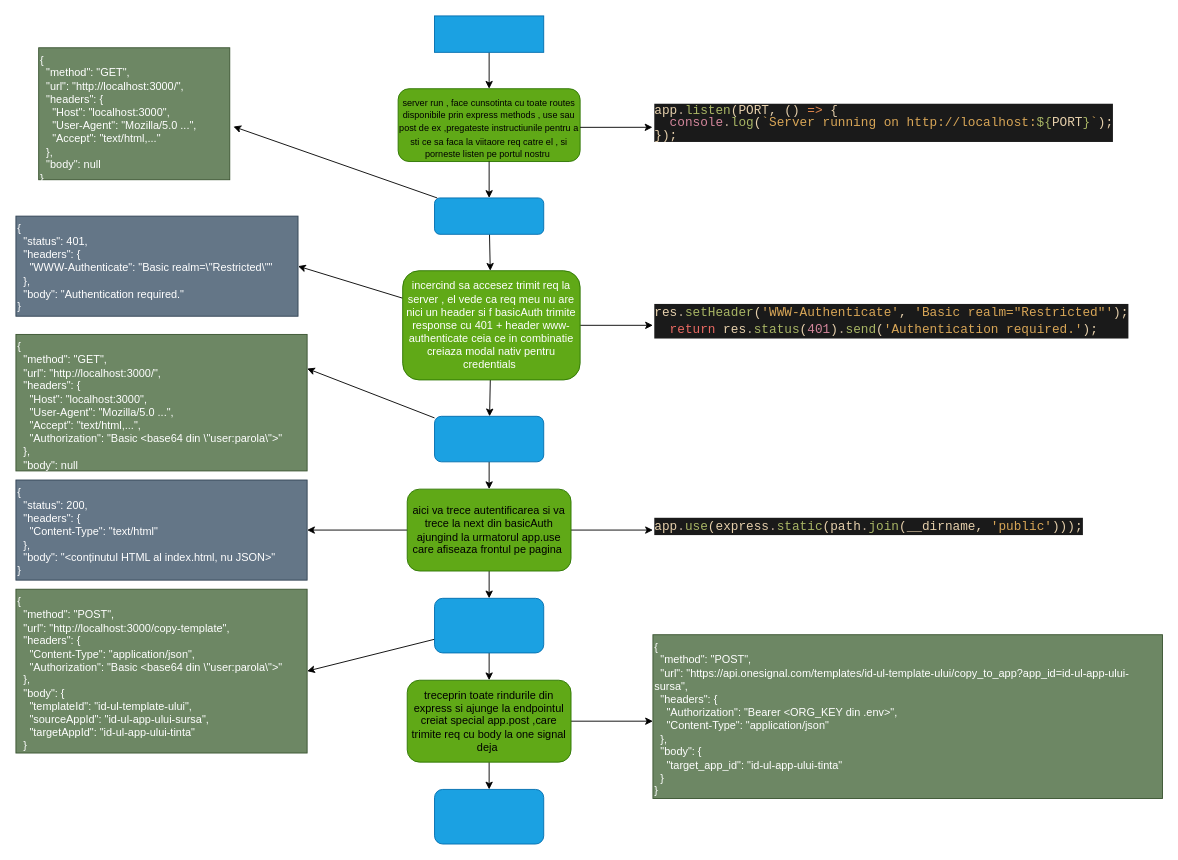
The diagram is 1178 pixels wide and 860 high, and some of its shapes have lost their labels. Each missing label, with the centre of its shape:
inseram datele in formular si apasam send: the point at 489,625
inseram datele si retrimitem alt req cu date pentru auth: the point at 489,438
localhost:PORT: the point at 489,215
npm start: the point at 489,33
send the result to front succes or err: the point at 489,816
